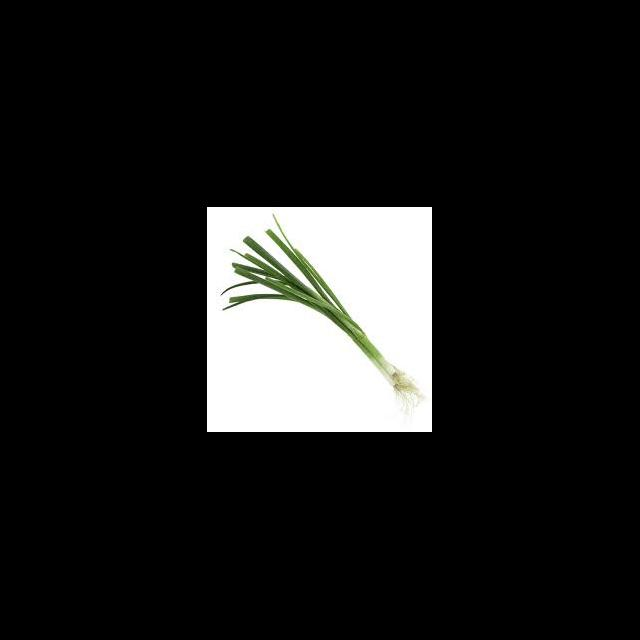green_onion: (218, 210, 422, 400)
